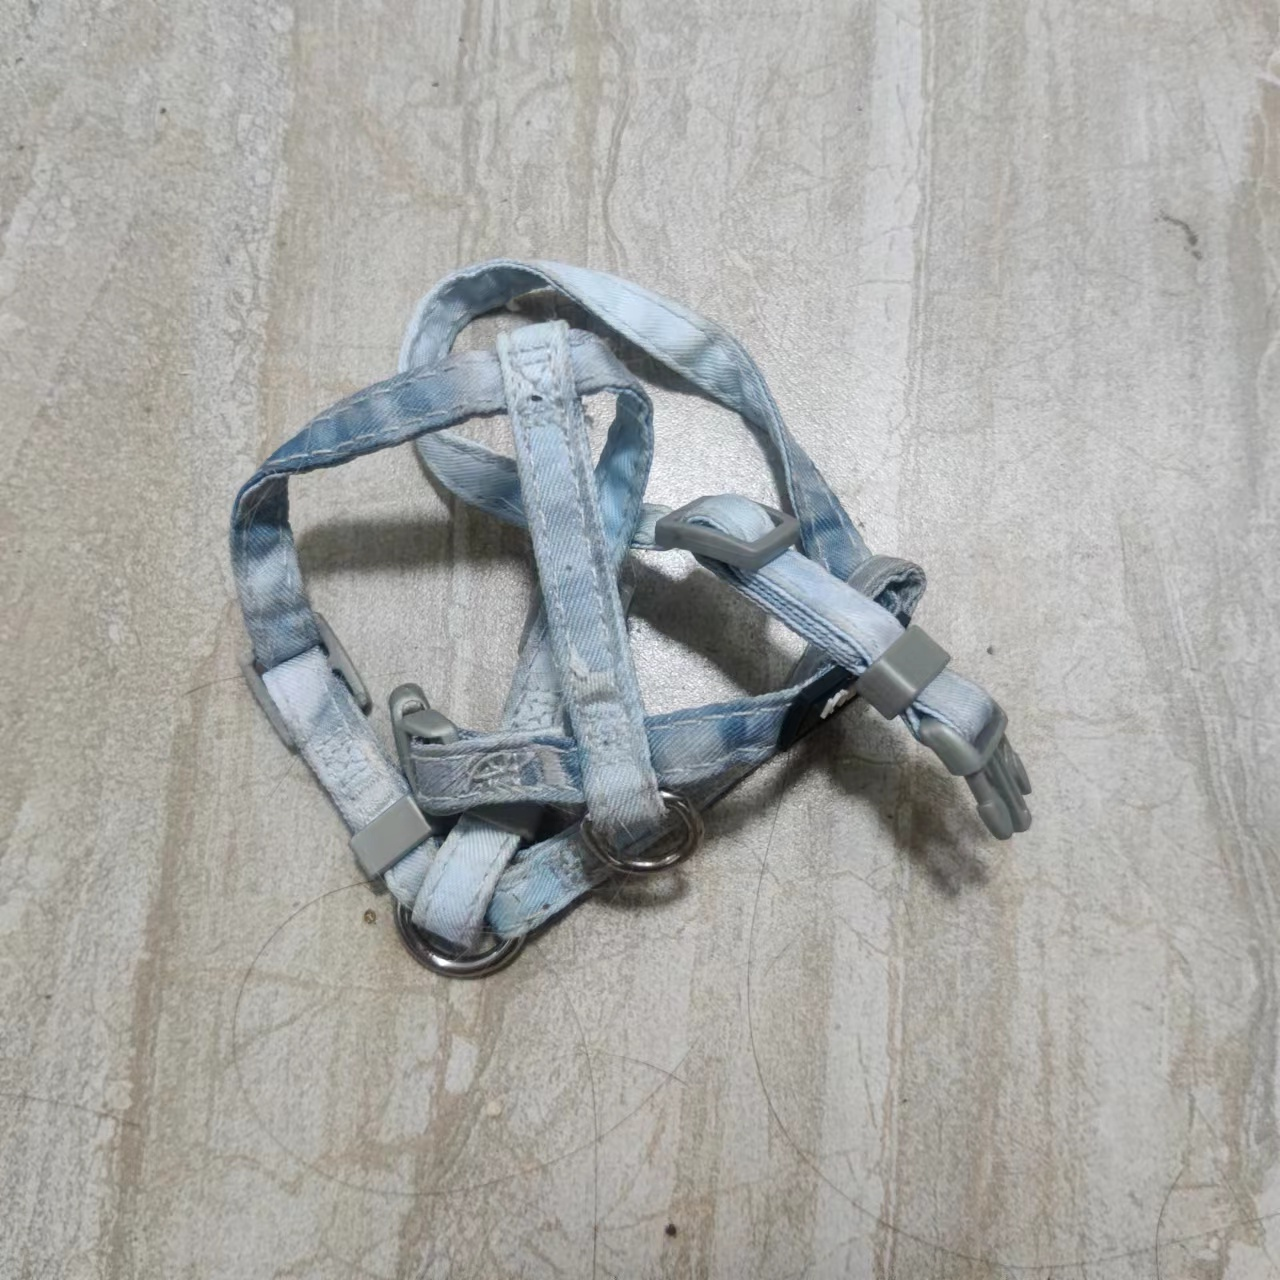9/可回收垃圾/绳子: (229, 257, 1032, 978)
